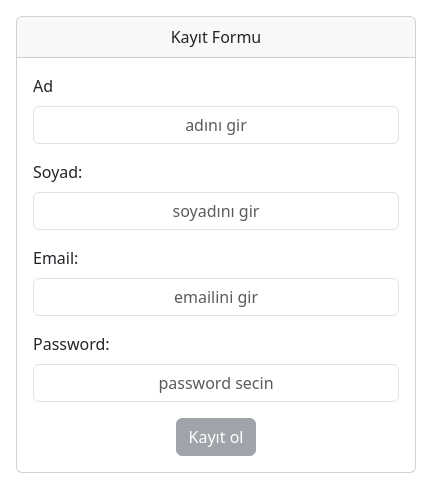
Test case: register sayfasi › Form input validated › button is enabled for validated inpıts.
Type "Emre" into the field with test id "ad-input" at (216, 125), box [33,106,399,144]
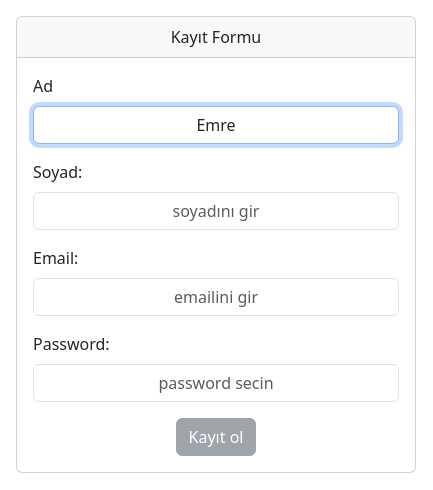
Type "Cetin" into the field with test id "soyad-input" at (216, 211), box [33,192,399,230]
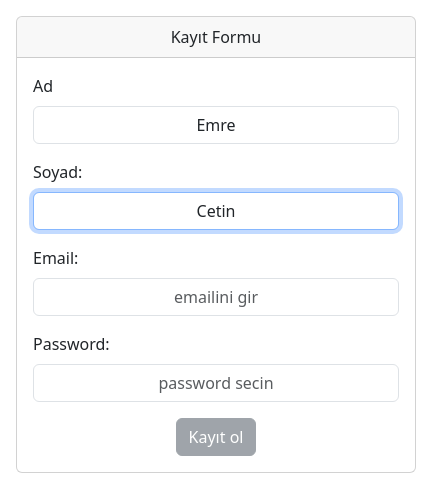
Type "emre@wit.com.tr" into the field with test id "email-input" at (216, 297), box [33,278,399,316]
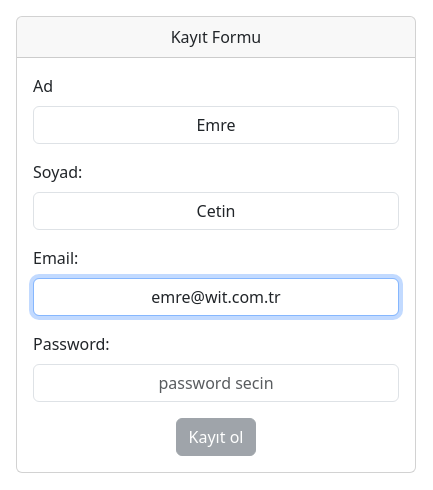
Type "Emre.356356" into the password field with test id "password-input" at (216, 383), box [33,364,399,402]
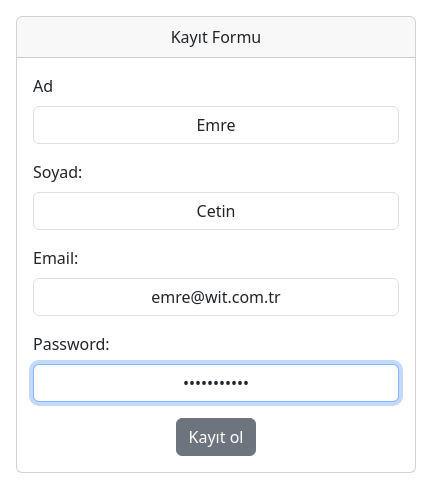
Expected: the button "Kayıt ol" is enabled, [176,418,257,456]
